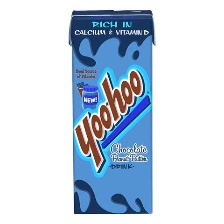carton: (64, 5, 164, 218)
